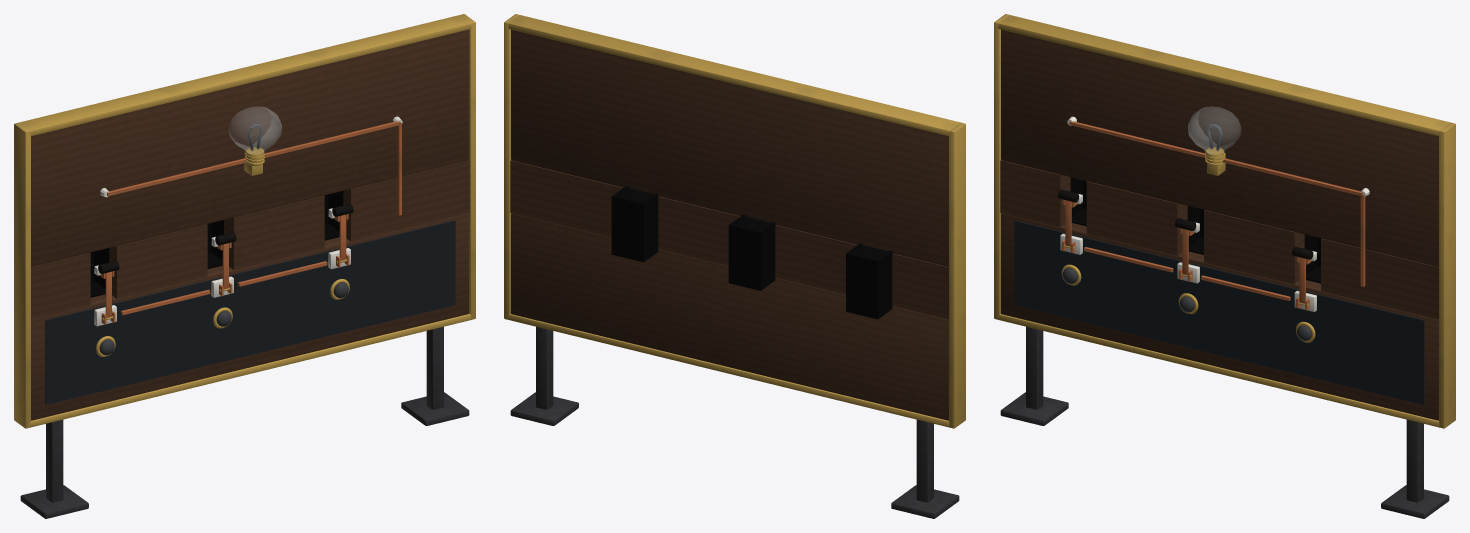
File: switch_panel_knife.glb
The picture shows the model from 3 angles, left to right: view 1: azimuth 30°, elevation 25°; view 2: azimuth 150°, elevation 25°; view 3: azimuth 330°, elevation 25°; orthographic projection.
Visible parts, largest first — view 1: switch_panel_knife_static, outGlass, sw2_static, sw0_static, sw1_static; view 2: switch_panel_knife_static; view 3: switch_panel_knife_static, outGlass, sw0_static, sw2_static, sw1_static.
Boxes of the visible parts, box(x1,y1,x2,y2) form: switch_panel_knife_static: box(14, 14, 475, 518); outGlass: box(229, 106, 281, 154); sw2_static: box(332, 204, 353, 263); sw0_static: box(98, 261, 119, 320); sw1_static: box(215, 232, 236, 292); switch_panel_knife_static: box(504, 14, 965, 518); switch_panel_knife_static: box(994, 14, 1455, 518); outGlass: box(1188, 106, 1240, 154); sw0_static: box(1057, 189, 1079, 249); sw2_static: box(1292, 246, 1313, 306); sw1_static: box(1175, 218, 1196, 277).
Size of the model in its own units: 3.08 by 2.52 by 0.51.
11 materials, 4 textured.
